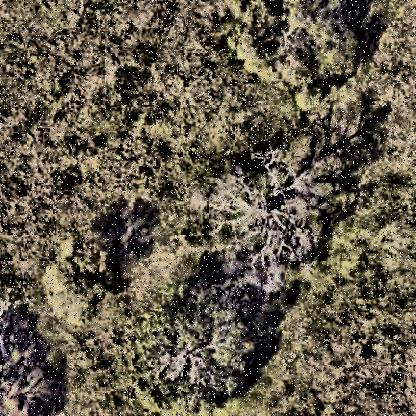tree-top: (197, 147, 345, 293), (211, 1, 390, 111), (120, 286, 270, 416), (40, 232, 126, 326), (2, 338, 70, 416)
